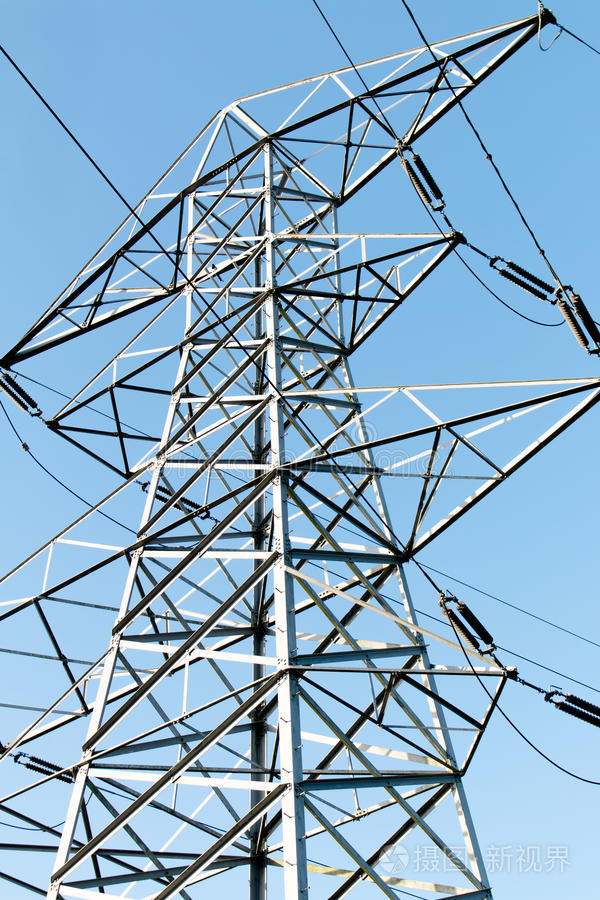insulator: (443, 596, 493, 653), (497, 261, 554, 305), (399, 156, 442, 207), (559, 295, 597, 349), (554, 689, 600, 726), (1, 371, 37, 411), (25, 755, 72, 785)
